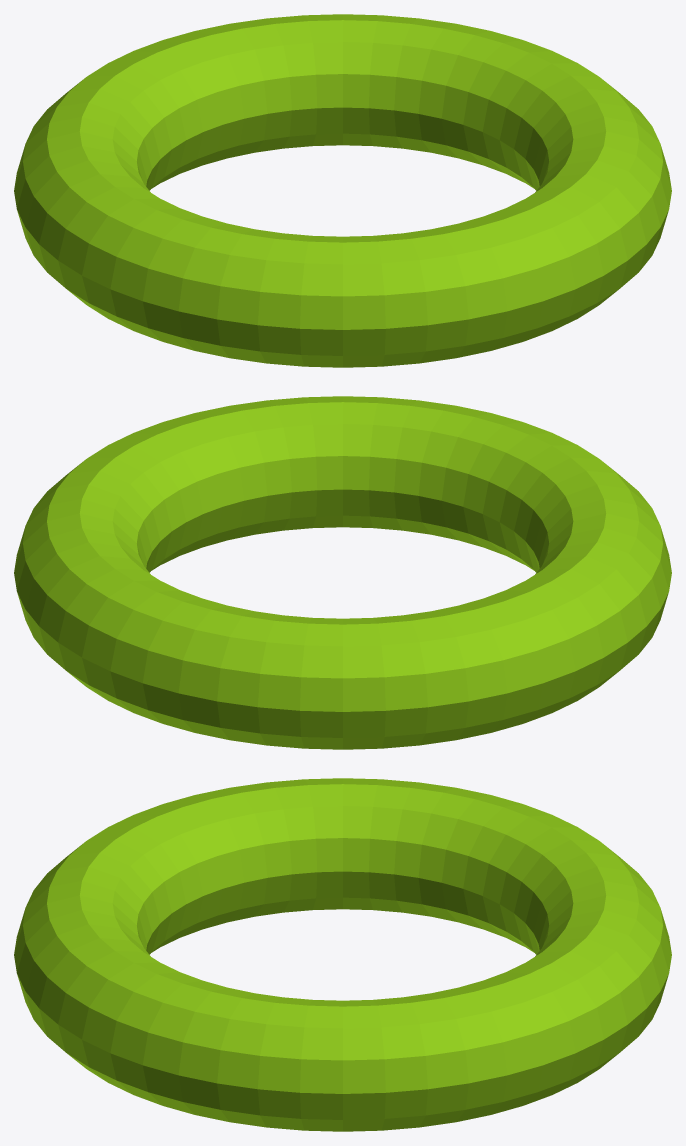
File: Quixtam.obj
3 views of the same model, one above another, from view 1: azimuth 30°, elevation 25°; view 2: azimuth 150°, elevation 25°; view 3: azimuth 270°, elevation 25° (orthographic).
Visible parts, largest first — view 1: Torus; view 2: Torus; view 3: Torus.
Boxes of the visible parts, box(x1,y1,x2,y2) form: Torus: box(14, 14, 671, 367); Torus: box(14, 396, 671, 749); Torus: box(14, 778, 671, 1131).
Bounding box in the file's own units: 2.5 × 0.5 × 2.5.
